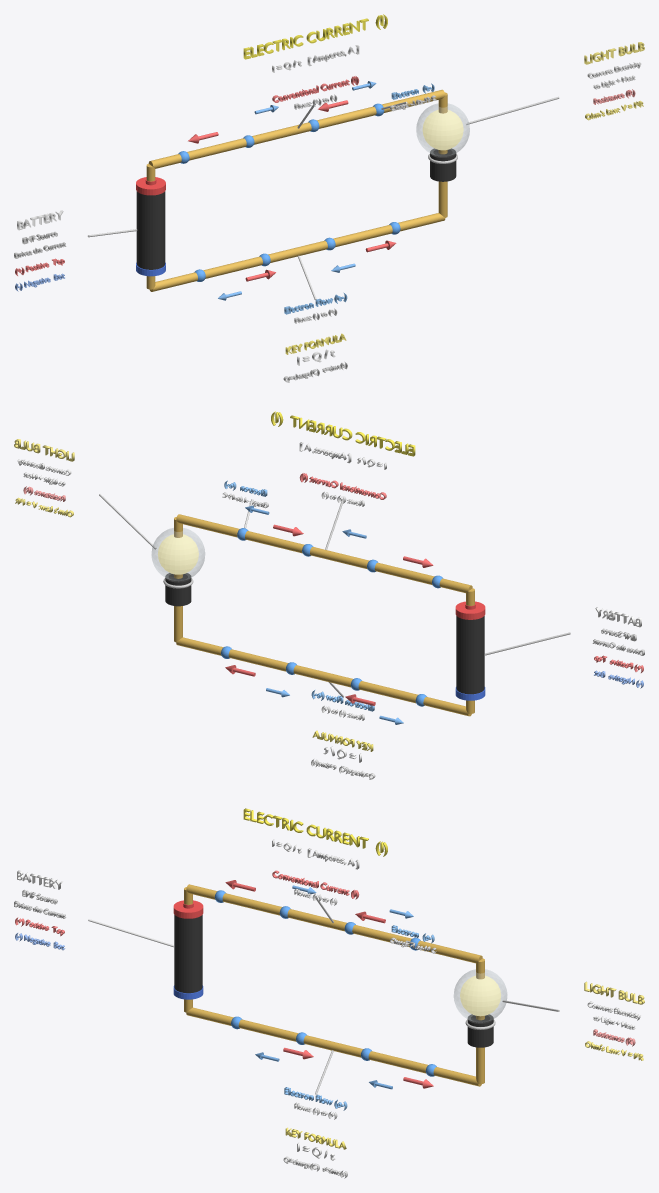
File: Electric_Current_AR.glb
3 views of the same model, one above another, from view 1: azimuth 30°, elevation 25°; view 2: azimuth 150°, elevation 25°; view 3: azimuth 330°, elevation 25° (orthographic).
Visible parts, largest first — view 1: Wire_Bottom, Wire_Top, Bulb_Glass, Battery, Bulb_Glow, Text, Bulb_Base, Wire_Right, Text.012; view 2: Wire_Top, Wire_Bottom, Bulb_Glass, Battery, Bulb_Glow, Text, Bulb_Base, Text.012; view 3: Wire_Bottom, Wire_Top, Bulb_Glass, Battery, Bulb_Glow, Text, Bulb_Base, Wire_Right, Text.012.
Boxes of the visible parts, x1,y1,x2,y2 form: Wire_Bottom: (149, 213, 445, 291); Wire_Top: (148, 89, 445, 168); Bulb_Glass: (416, 103, 469, 156); Battery: (136, 191, 165, 269); Bulb_Glow: (422, 109, 463, 150); Text: (243, 14, 387, 59); Bulb_Base: (430, 148, 456, 181); Wire_Right: (438, 92, 447, 217); Text.012: (272, 76, 359, 102); Wire_Top: (176, 514, 472, 593); Wire_Bottom: (176, 637, 471, 716); Bulb_Glass: (151, 528, 204, 580); Battery: (456, 616, 484, 694); Bulb_Glow: (157, 534, 198, 574); Text: (271, 411, 415, 456); Bulb_Base: (165, 573, 191, 606); Text.012: (299, 473, 386, 499); Wire_Bottom: (186, 1007, 481, 1086); Wire_Top: (186, 884, 482, 963); Bulb_Glass: (454, 969, 507, 1022); Battery: (174, 915, 202, 993); Bulb_Glow: (460, 975, 501, 1016); Text: (243, 808, 387, 856); Bulb_Base: (467, 1014, 493, 1047); Wire_Right: (476, 958, 484, 1084); Text.012: (272, 870, 359, 899).
Bounding box in the file's own units: 19.38 × 10.14 × 1.77.
